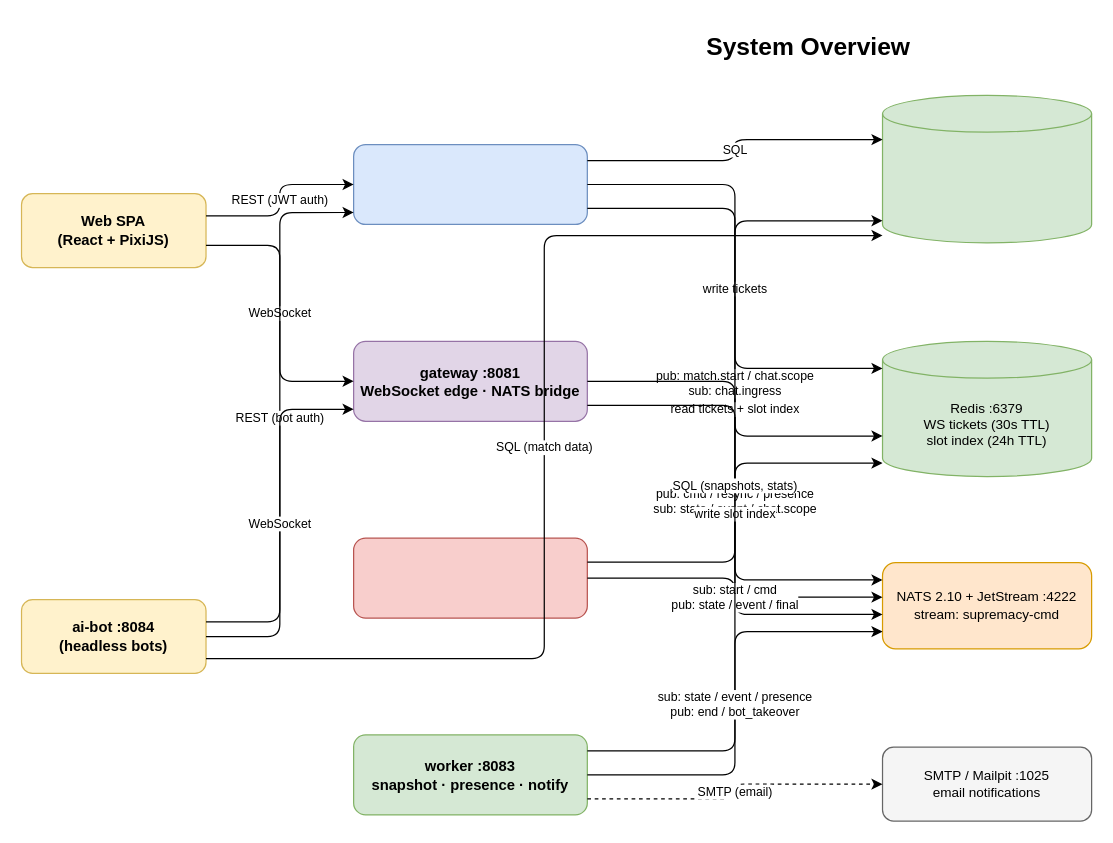
This 1113x843 diagram has some shape labels left out. The centre of each missing label's shape, as x and y in pixels:
"core-api :8080 REST · auth · lobby · chat" goes at [469,183].
"engine :8082 match simulation" goes at [469,577].
"PostgreSQL :5432 users · matches · chat notifications · stats · snapshots" goes at [986,168].
